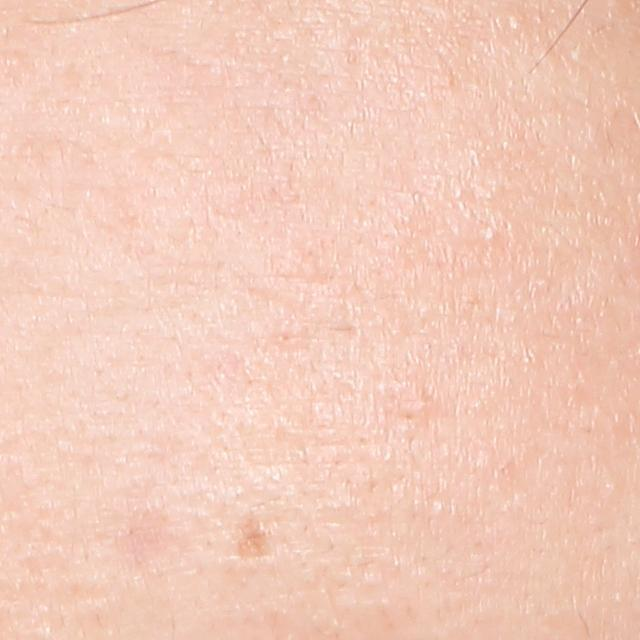comedo: (507, 12, 526, 33)
